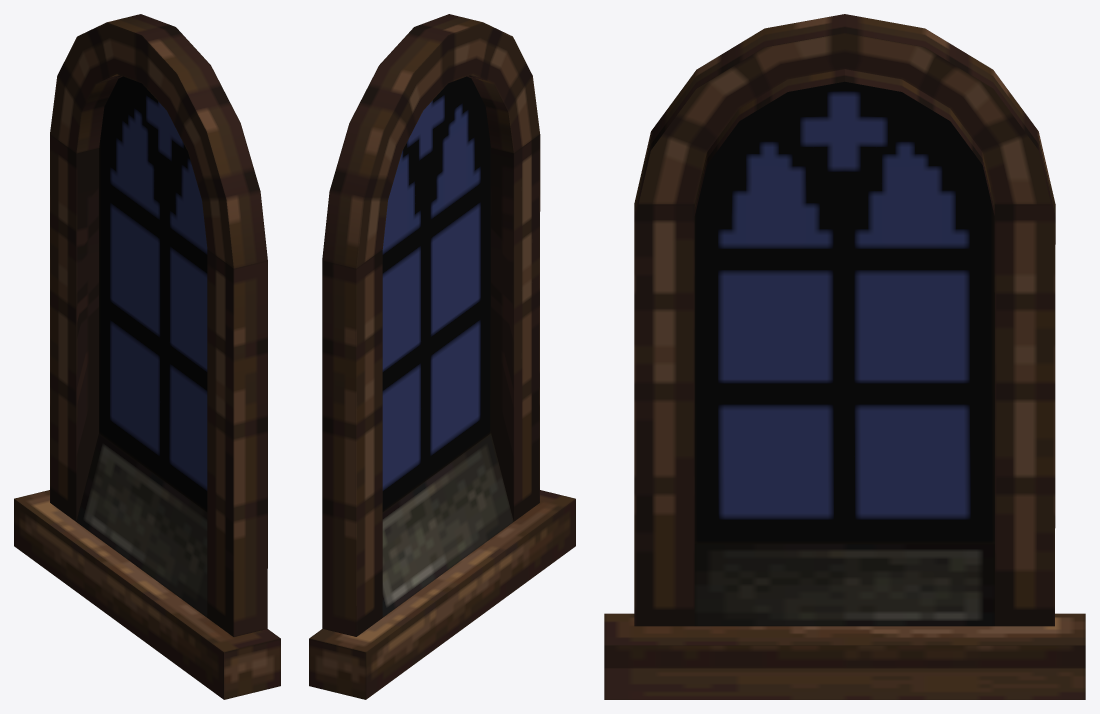
The model's file is EnvBdgMD_Church_Sea_A_Indoor_A_Window_B.FBX.
The picture shows the model from 3 angles, left to right: view 1: azimuth 30°, elevation 25°; view 2: azimuth 150°, elevation 25°; view 3: azimuth 270°, elevation 25°; orthographic projection. The views are drawn at different scales.
Visible parts, largest first — view 1: EnvBdgMD_Church_Sea_A_Indoor_A_Window_B; view 2: EnvBdgMD_Church_Sea_A_Indoor_A_Window_B; view 3: EnvBdgMD_Church_Sea_A_Indoor_A_Window_B.
Part boxes in pixels (bbox=[...]): EnvBdgMD_Church_Sea_A_Indoor_A_Window_B: bbox=[14, 14, 280, 699]; EnvBdgMD_Church_Sea_A_Indoor_A_Window_B: bbox=[309, 14, 575, 699]; EnvBdgMD_Church_Sea_A_Indoor_A_Window_B: bbox=[604, 14, 1085, 699].
Size of the model in its own units: 25 by 245 by 160.
